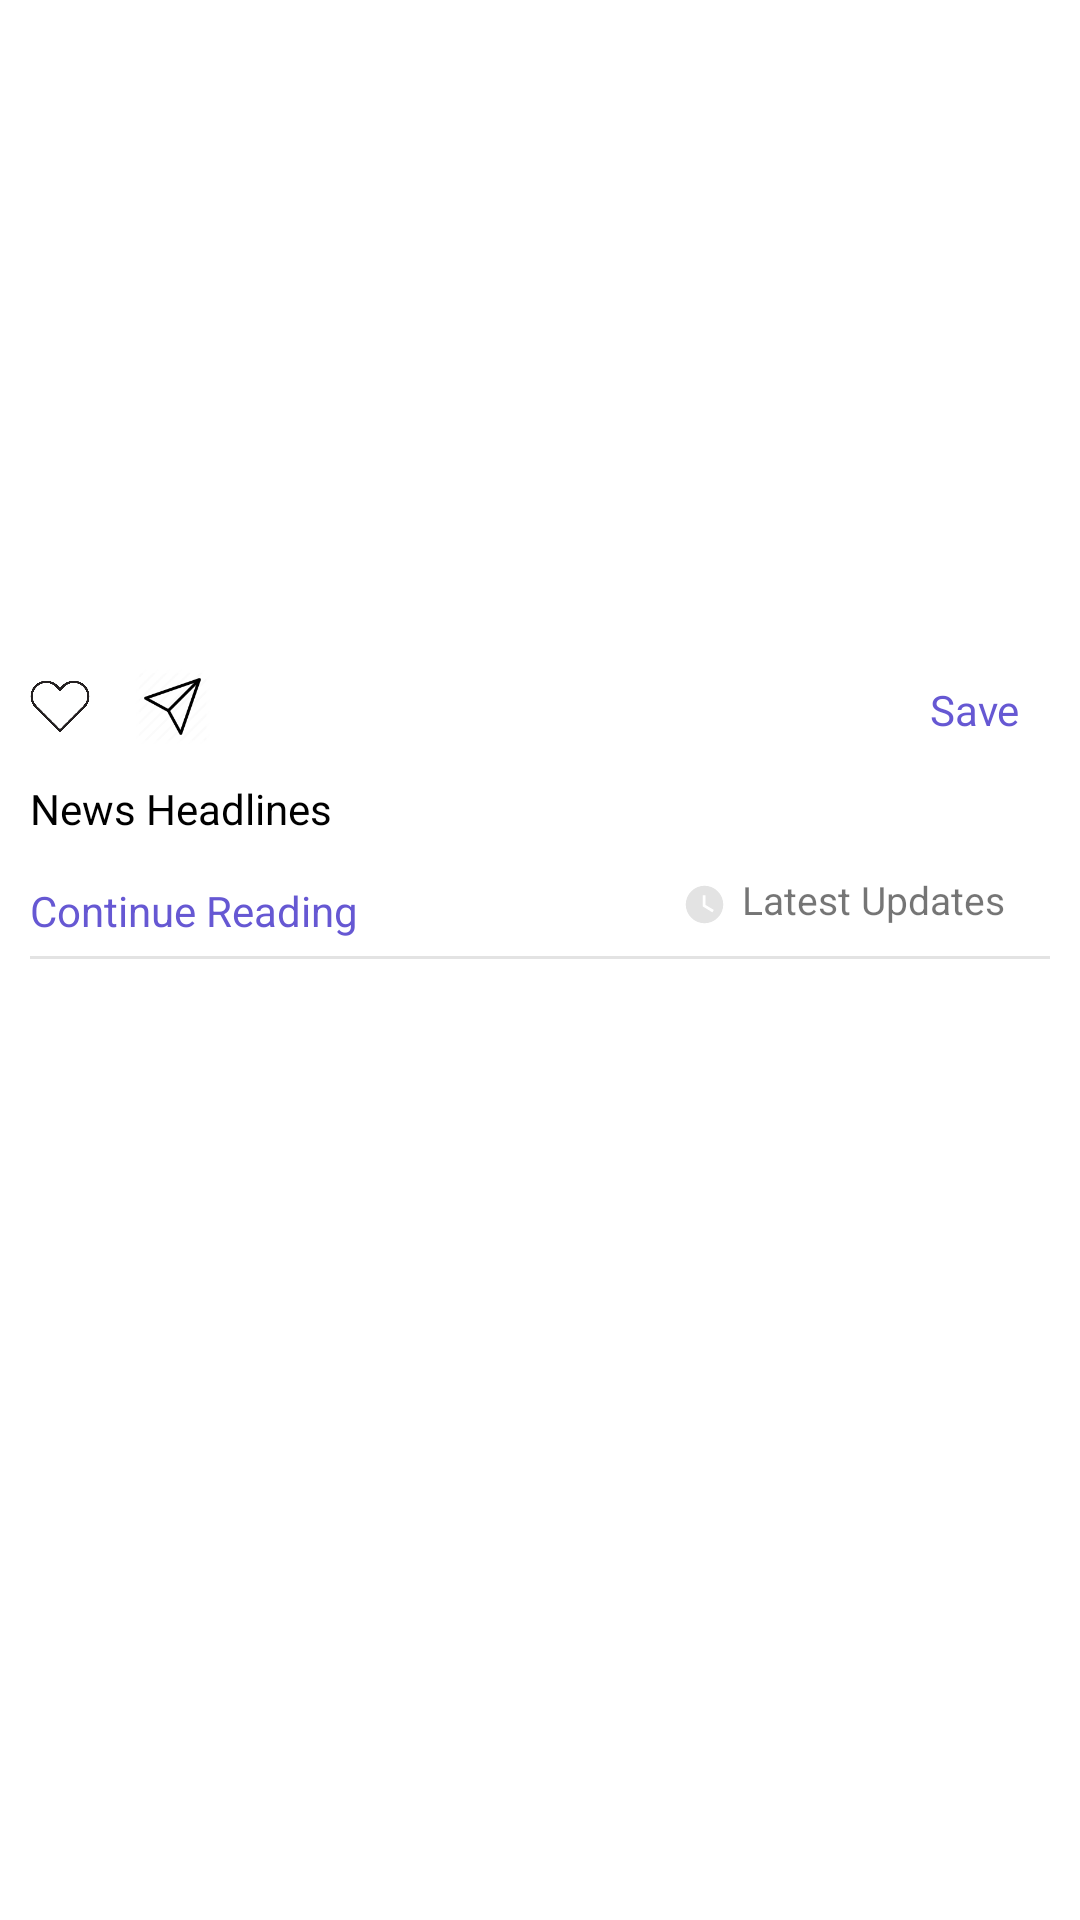

Where to tap for icons on this 1080x1920 app screen, as [x,y]:
like: [60,706]
share: [172,706]
watch later: [704,904]
